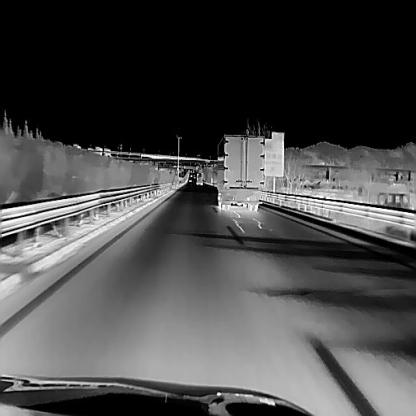truck: (212, 133, 264, 210), (196, 172, 203, 184)
